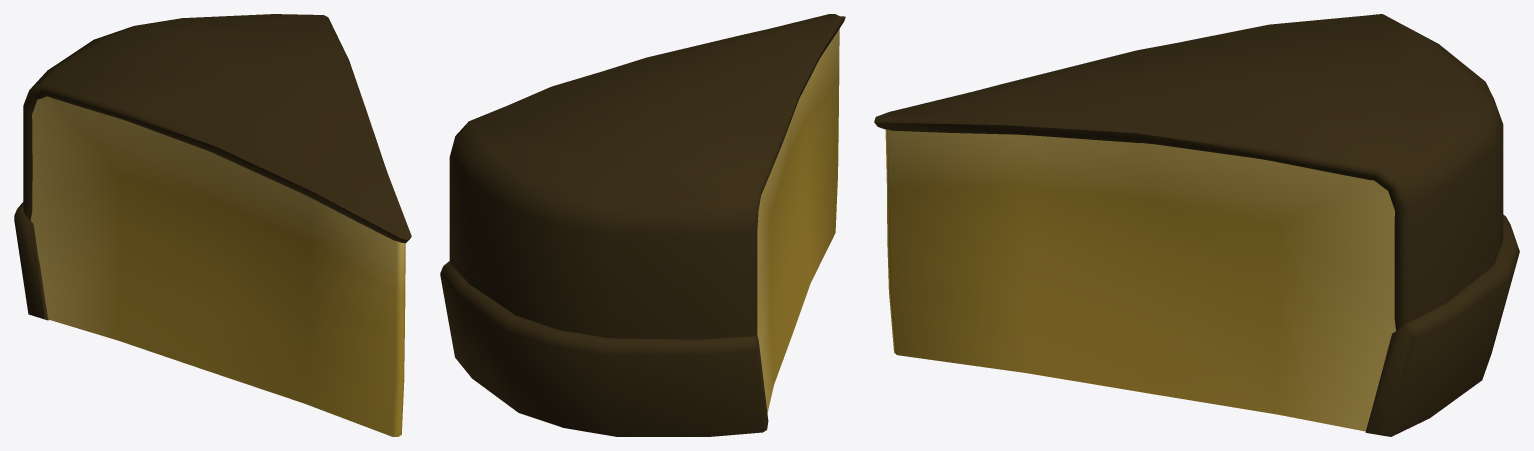
File: Cake-Chocolate.fbx
3 renders of one model, left to right at view 1: azimuth 30°, elevation 25°; view 2: azimuth 150°, elevation 25°; view 3: azimuth 270°, elevation 25°, orthographic. The views are drawn at different scales.
Visible parts, largest first — view 1: Cake-Chocolate; view 2: Cake-Chocolate; view 3: Cake-Chocolate.
Part boxes in pixels (<box>): Cake-Chocolate: <box>14,14,411,436</box>; Cake-Chocolate: <box>440,14,845,436</box>; Cake-Chocolate: <box>874,14,1519,436</box>.
Size of the model in its own units: 416 by 314 by 660.
